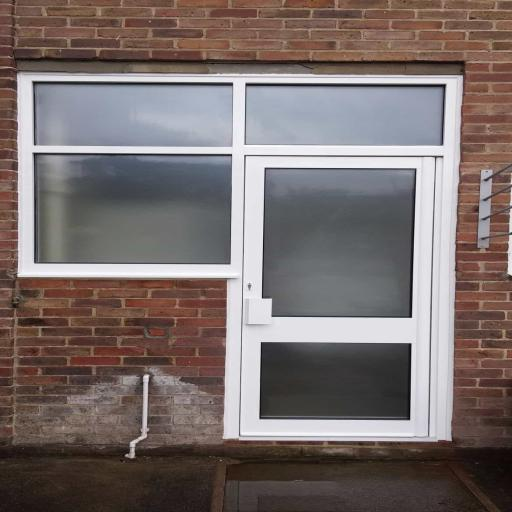Door: (240, 156, 433, 438)
